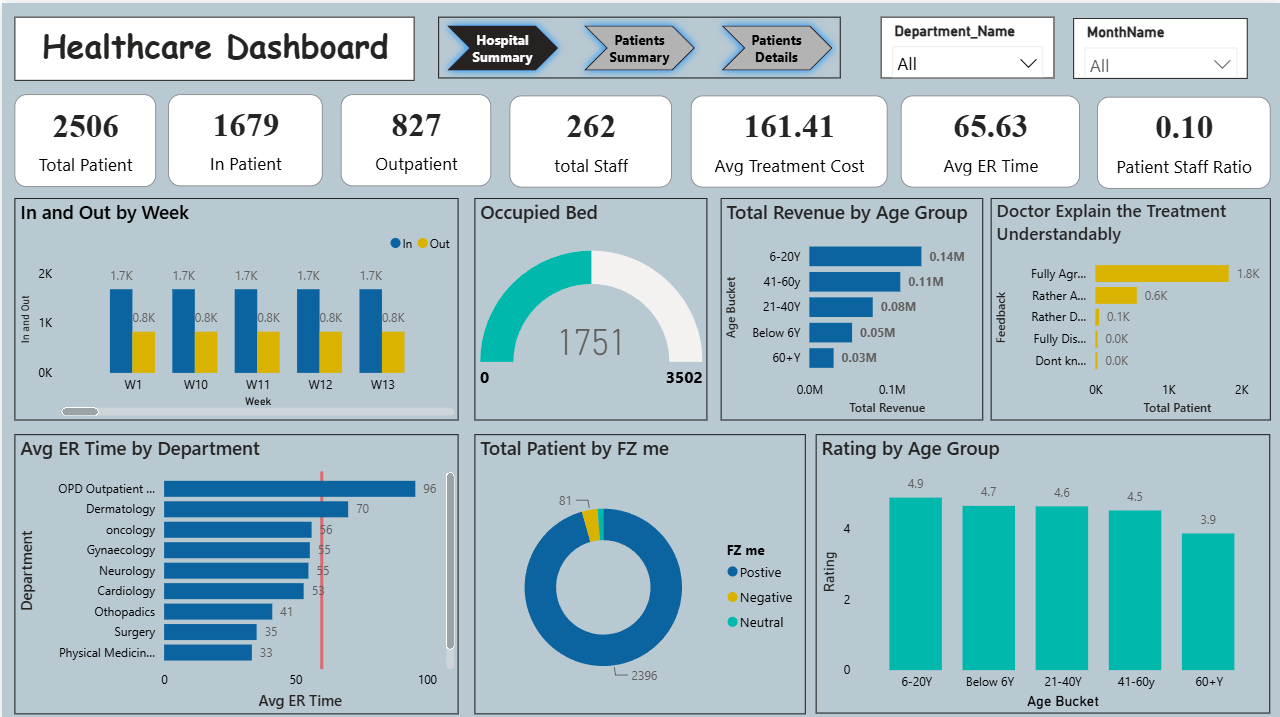

This screenshot's page, from the dashboard's own definition file:
{"tool":"powerbi","page":{"name":"Hospital Summary ","canvas":[1280,720],"ordinal":0},"visuals":[{"type":"cardVisual","fields":{"Data":["Measure.Total Patient"]},"box":[12.8,90.7,141.9,93],"z":1000},{"type":"textbox","box":[12.8,14,400,64],"z":2000},{"type":"slicer","fields":{"Values":["Department.Department_Name"]},"box":[879.1,14,173.3,61.6],"z":3000},{"type":"slicer","fields":{"Values":["Calendar_date.MonthName"]},"box":[1070.9,15.1,174.4,60.5],"z":4000},{"type":"cardVisual","fields":{"Data":["Measure.In Patient"]},"box":[166.3,91.9,154.7,91.9],"z":5000},{"type":"cardVisual","fields":{"Data":["Measure.Outpatient"]},"box":[338.4,91.9,150,91.9],"z":6000},{"type":"cardVisual","fields":{"Data":["Bed_Detail.total Staff"]},"box":[507,93,162.8,91.9],"z":7000},{"type":"cardVisual","fields":{"Data":["Measure.Avg Treatment Cost"]},"box":[688.4,93,196.5,91.9],"z":8000},{"type":"cardVisual","fields":{"Data":["Measure.Avg ER Time"]},"box":[898.8,93,179.1,91.9],"z":9000},{"type":"cardVisual","fields":{"Data":["Bed_Detail.Patient Staff Ratio"]},"box":[1095.4,94.2,173.3,91.9],"z":10000},{"type":"clusteredColumnChart","fields":{"Y":["Calendar_date.In Patient","Calendar_date.Outpatient"],"Category":["Calendar_date.WeekName"]},"box":[12.8,195.3,444.2,222.1],"z":11000},{"type":"gauge","fields":{"Y":["Divide(Measure.Occupied Bed, ScopedEval(Measure.Occupied Bed, []))"]},"box":[472.1,195.3,232.6,222.1],"z":12000},{"type":"clusteredBarChart","title":"Total Revenue by Age Group","fields":{"Y":["Measure.Total Revenue"],"Category":["Detail data dataset.Age Bucket"]},"box":[718.6,195.3,262.8,222.1],"z":13000},{"type":"barChart","fields":{"Y":["Measure.Avg ER Time"],"Category":["Department.Department_Name"]},"box":[12.8,431.4,444.2,280.2],"z":14000},{"type":"barChart","title":"Doctor Explain the Treatment Understandably","fields":{"Y":["Measure.Total Patient"],"Category":["Detail data dataset.Feedback"]},"box":[988.4,195.3,280.2,222.1],"z":15000},{"type":"columnChart","title":"Rating by Age Group","fields":{"Y":["Measure.Rating"],"Category":["Detail data dataset.Age Bucket"]},"box":[814,431.4,454.7,279.1],"z":16000},{"type":"donutChart","fields":{"Y":["Measure.Total Patient"],"Category":["Detail data dataset.FZ me"]},"box":[472.1,431.4,331.4,280.2],"z":17000},{"type":"pageNavigator","box":[436,14,402.3,61.6],"z":18000}]}

Visuals, with their boxes in screenshot pixels (x1, y1, x2, y2), scaled from the page's 1280x720 canvas onto the 1280x717 screenshot:
cardVisual - Measure.Total Patient: 13 90 155 183
textbox: 13 14 413 78
slicer - Department.Department_Name: 879 14 1052 75
slicer - Calendar_date.MonthName: 1071 15 1245 75
cardVisual - Measure.In Patient: 166 92 321 183
cardVisual - Measure.Outpatient: 338 92 488 183
cardVisual - Bed_Detail.total Staff: 507 93 670 184
cardVisual - Measure.Avg Treatment Cost: 688 93 885 184
cardVisual - Measure.Avg ER Time: 899 93 1078 184
cardVisual - Bed_Detail.Patient Staff Ratio: 1095 94 1269 185
clusteredColumnChart - Calendar_date.In Patient x Calendar_date.Outpatient: 13 194 457 416
gauge - Divide(Measure.Occupied Bed, ScopedEval(Measure.Occupied Bed, [])): 472 194 705 416
"Total Revenue by Age Group" clusteredBarChart: 719 194 981 416
barChart - Measure.Avg ER Time x Department.Department_Name: 13 430 457 709
"Doctor Explain the Treatment Understandably" barChart: 988 194 1269 416
"Rating by Age Group" columnChart: 814 430 1269 708
donutChart - Measure.Total Patient x Detail data dataset.FZ me: 472 430 804 709
pageNavigator: 436 14 838 75
